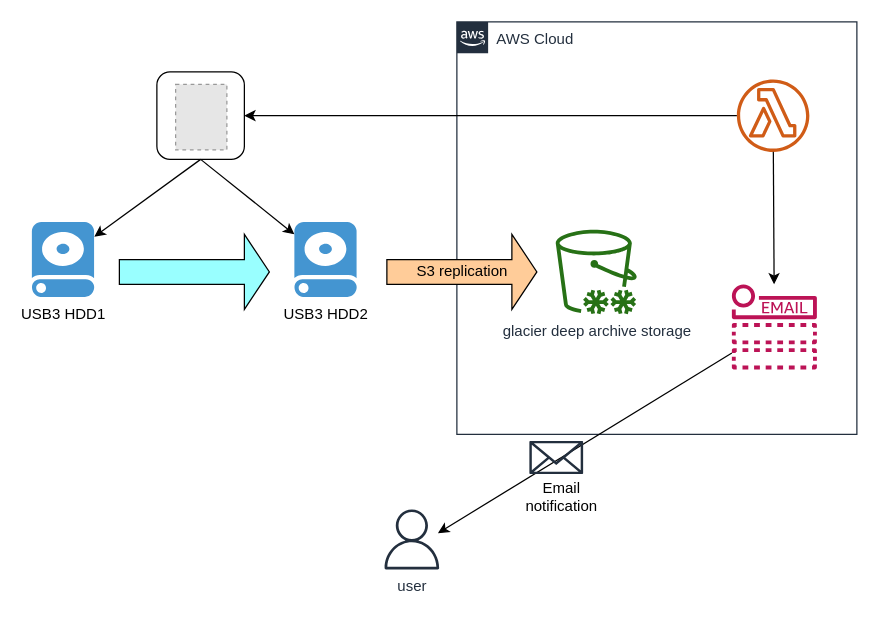
Some shapes in this 879 by 618 pixel diagram are drawn without their labels. Grey dashed boxes stand in for pictures. Here are the shapes that lost their labels. From the top down, the centre of each, then its label:
pixel 772 115: NAS monitoring
pixel 193 271: rsync replication
pixel 773 326: SNS
